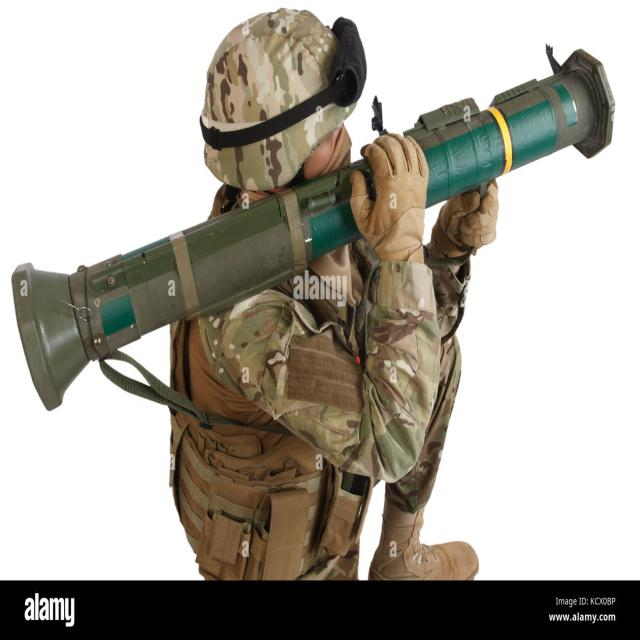bazooka: (10, 41, 618, 414)
